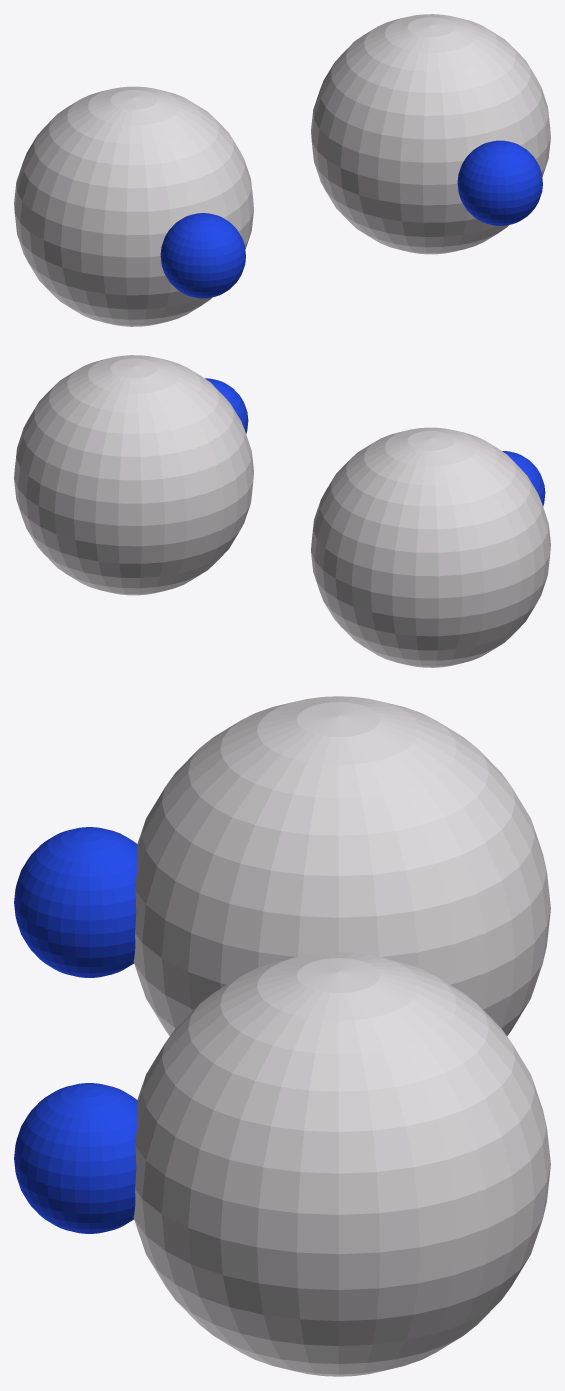
Rendered from Eaten.fbx.
3 renders of one model, top to bottom at view 1: azimuth 30°, elevation 25°; view 2: azimuth 150°, elevation 25°; view 3: azimuth 270°, elevation 25°, orthographic. The views are drawn at different scales.
Parts seen in each view (by area): view 1: Sphere; view 2: Sphere; view 3: Sphere.
Boxes of the visible parts, x1,y1,x2,y2 form: Sphere: (14,14,550,326); Sphere: (14,355,550,667); Sphere: (14,696,550,1376).
Size of the model in its own units: 485 by 200 by 253.
